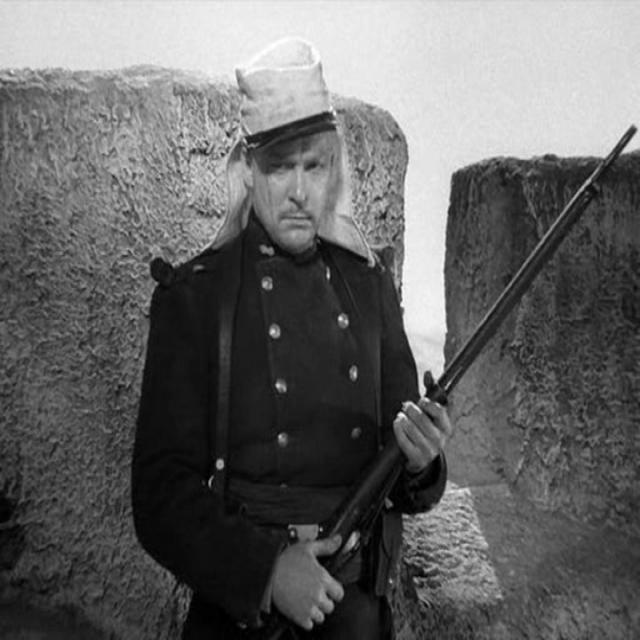gun-knife-thesis - v11 Yolov5 augmented: (214, 120, 634, 639)
